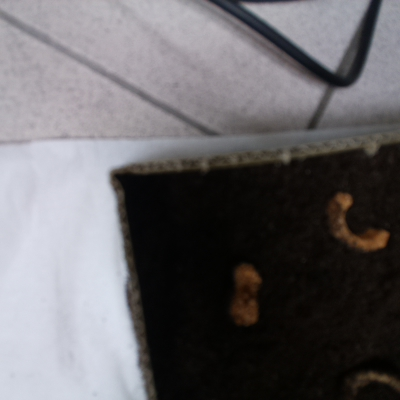eggs: (322, 187, 393, 258), (219, 255, 275, 334), (336, 361, 400, 399)
